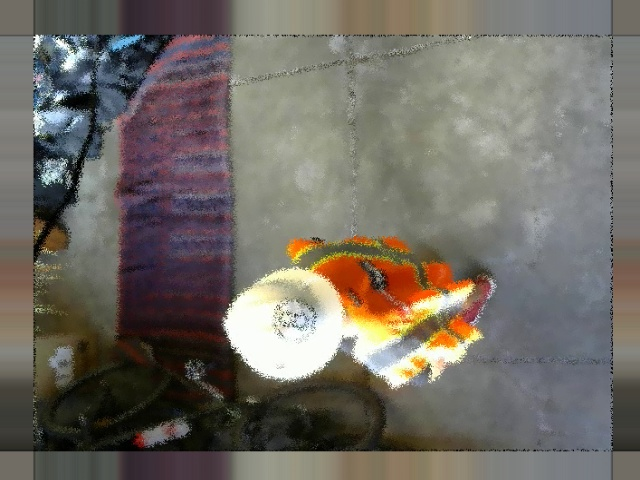eight: (275, 296, 315, 338)
